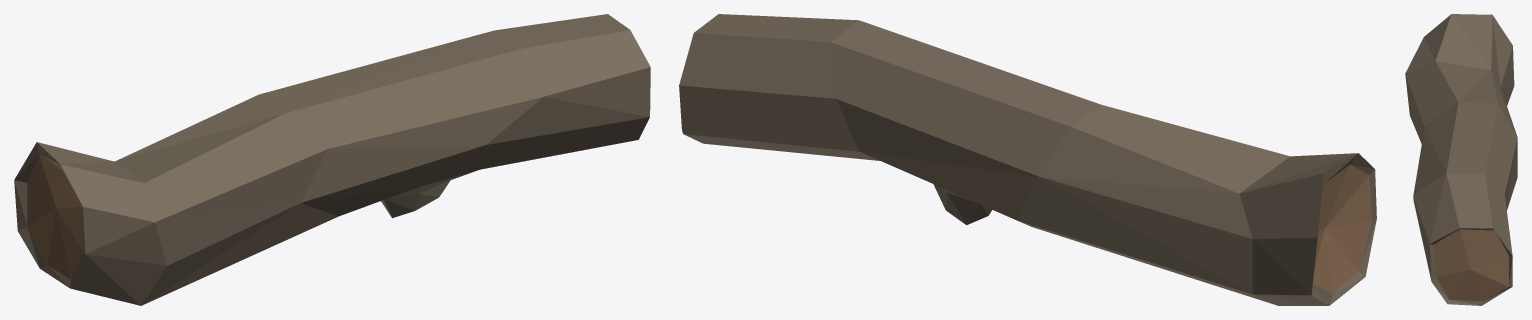
Rendered from Log_desert.fbx.
3 renders of one model, left to right at view 1: azimuth 30°, elevation 25°; view 2: azimuth 150°, elevation 25°; view 3: azimuth 270°, elevation 25°, orthographic. The views are drawn at different scales.
Visible parts, largest first — view 1: Log_1; view 2: Log_1; view 3: Log_1.
Part boxes in pixels (x1,y1,x2,y2): Log_1: [14, 14, 650, 305]; Log_1: [679, 14, 1376, 305]; Log_1: [1405, 14, 1517, 305].
Bounding box in the file's own units: 303 × 76.37 × 69.06.
